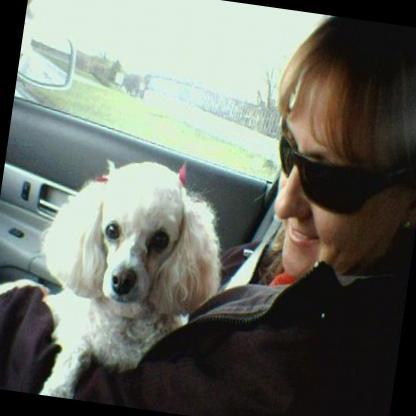miniature_poodle: (18, 143, 236, 414)
